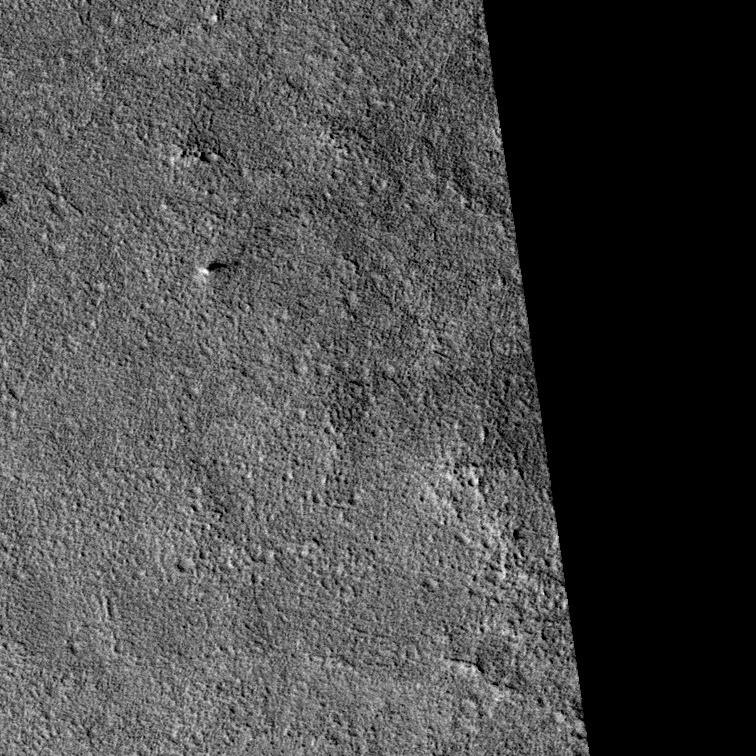dust_devil: (195, 258, 228, 275)
